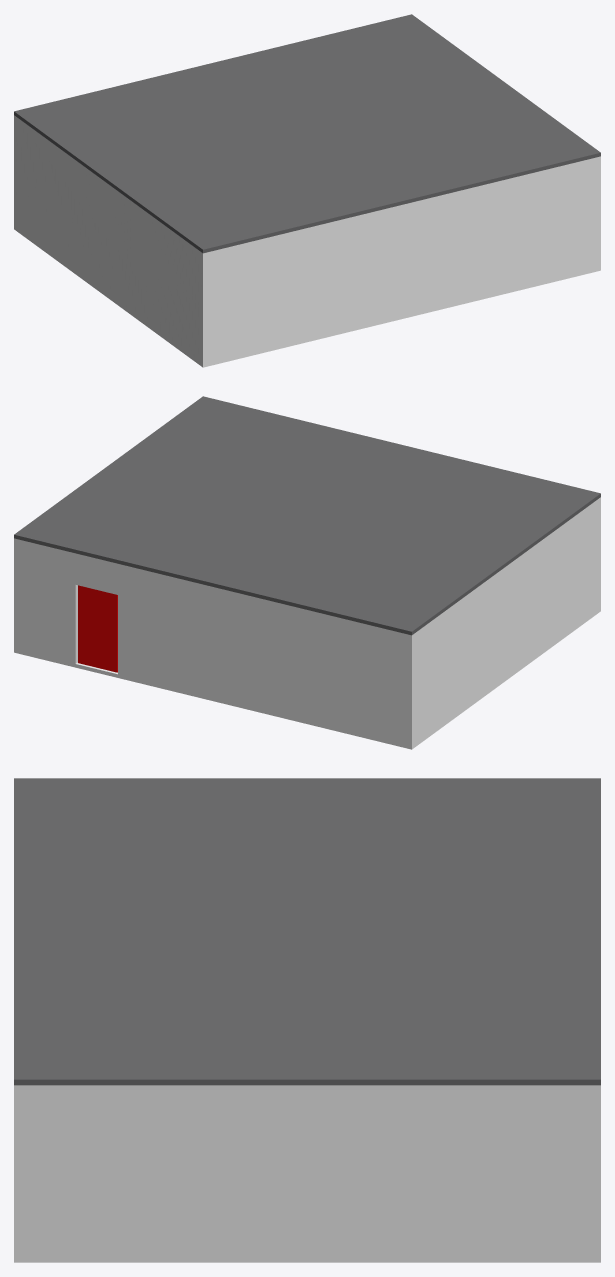
The model's file is SS_Room.glb.
3 views of the same model, one above another, from view 1: azimuth 30°, elevation 25°; view 2: azimuth 150°, elevation 25°; view 3: azimuth 270°, elevation 25° (orthographic). The views are drawn at different scales.
Visible parts, largest first — view 1: ENV_Ceiling, ENV_Wall_South, ENV_Wall_West, ENV_Floor; view 2: ENV_Ceiling, ENV_Wall_North, ENV_Wall_West, DOOR_Exit, ENV_Floor; view 3: ENV_Ceiling, ENV_Wall_East, ENV_Floor, ENV_Wall_North, ENV_Wall_South.
Boxes of the visible parts, x1,y1,x2,y2 form: ENV_Ceiling: (14,14,600,253); ENV_Wall_South: (200,156,600,363); ENV_Wall_West: (17,117,199,361); ENV_Floor: (14,226,600,367); ENV_Ceiling: (14,396,600,635); ENV_Wall_North: (14,538,414,745); ENV_Wall_West: (415,499,597,743); DOOR_Exit: (78,585,117,672); ENV_Floor: (14,608,600,749); ENV_Ceiling: (14,778,600,1085); ENV_Wall_East: (23,1085,591,1256); ENV_Floor: (14,1257,600,1262); ENV_Wall_North: (591,1085,600,1256); ENV_Wall_South: (14,1085,23,1256).
Bounding box in the file's own units: 11.3 × 3.2 × 9.3.
